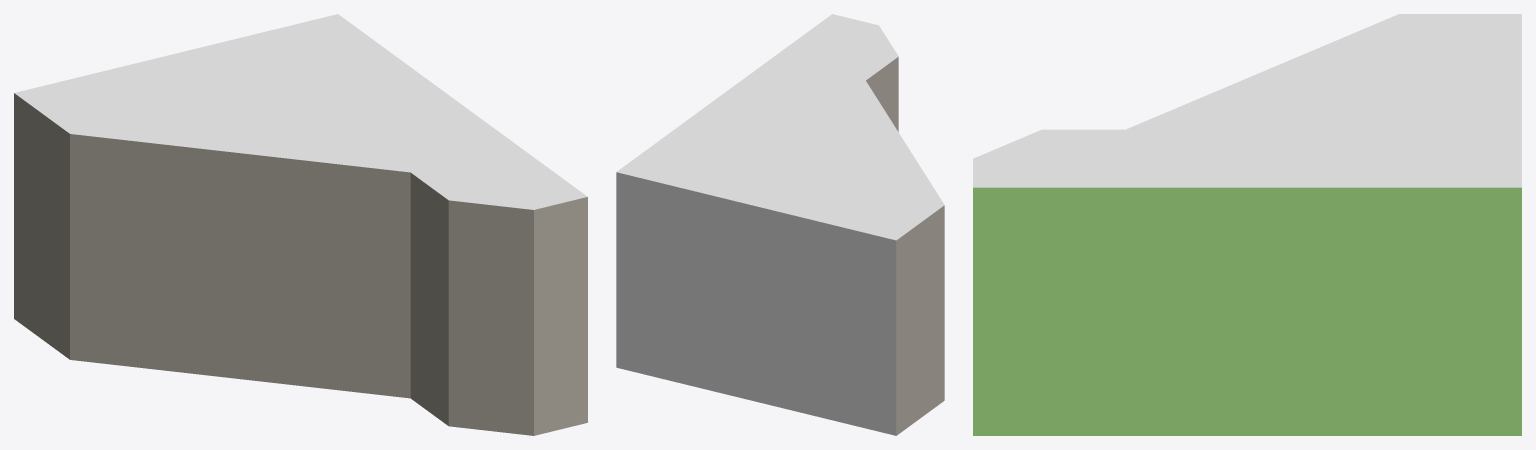
Rendered from Cave_Edge_Esse_Mid_2x3.glb.
3 renders of one model, left to right at view 1: azimuth 30°, elevation 25°; view 2: azimuth 150°, elevation 25°; view 3: azimuth 270°, elevation 25°, orthographic. The views are drawn at different scales.
Parts seen in each view (by area): view 1: Cave_Edge_Esse_Mid_2x3; view 2: Cave_Edge_Esse_Mid_2x3; view 3: Cave_Edge_Esse_Mid_2x3.
Part boxes in pixels (x1,y1,x2,y2): Cave_Edge_Esse_Mid_2x3: (14, 14, 587, 435); Cave_Edge_Esse_Mid_2x3: (616, 14, 944, 435); Cave_Edge_Esse_Mid_2x3: (973, 14, 1521, 435).
Bounding box in the file's own units: 150 × 100 × 200.
